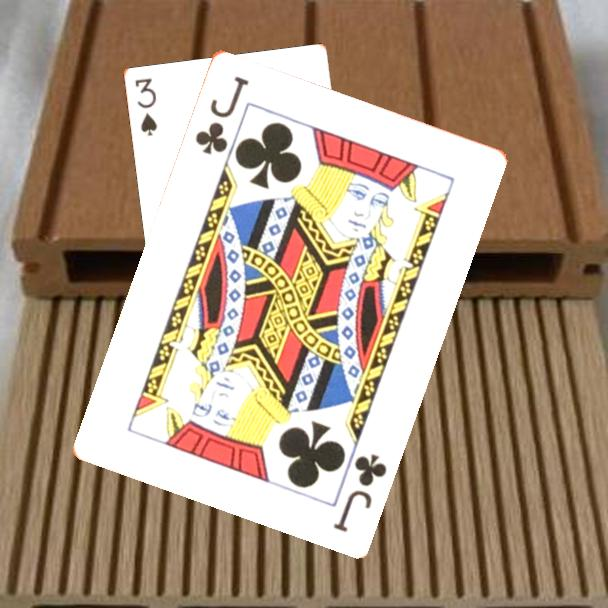c11: (329, 449, 390, 535), (191, 72, 252, 157)
s03: (132, 75, 160, 139)
